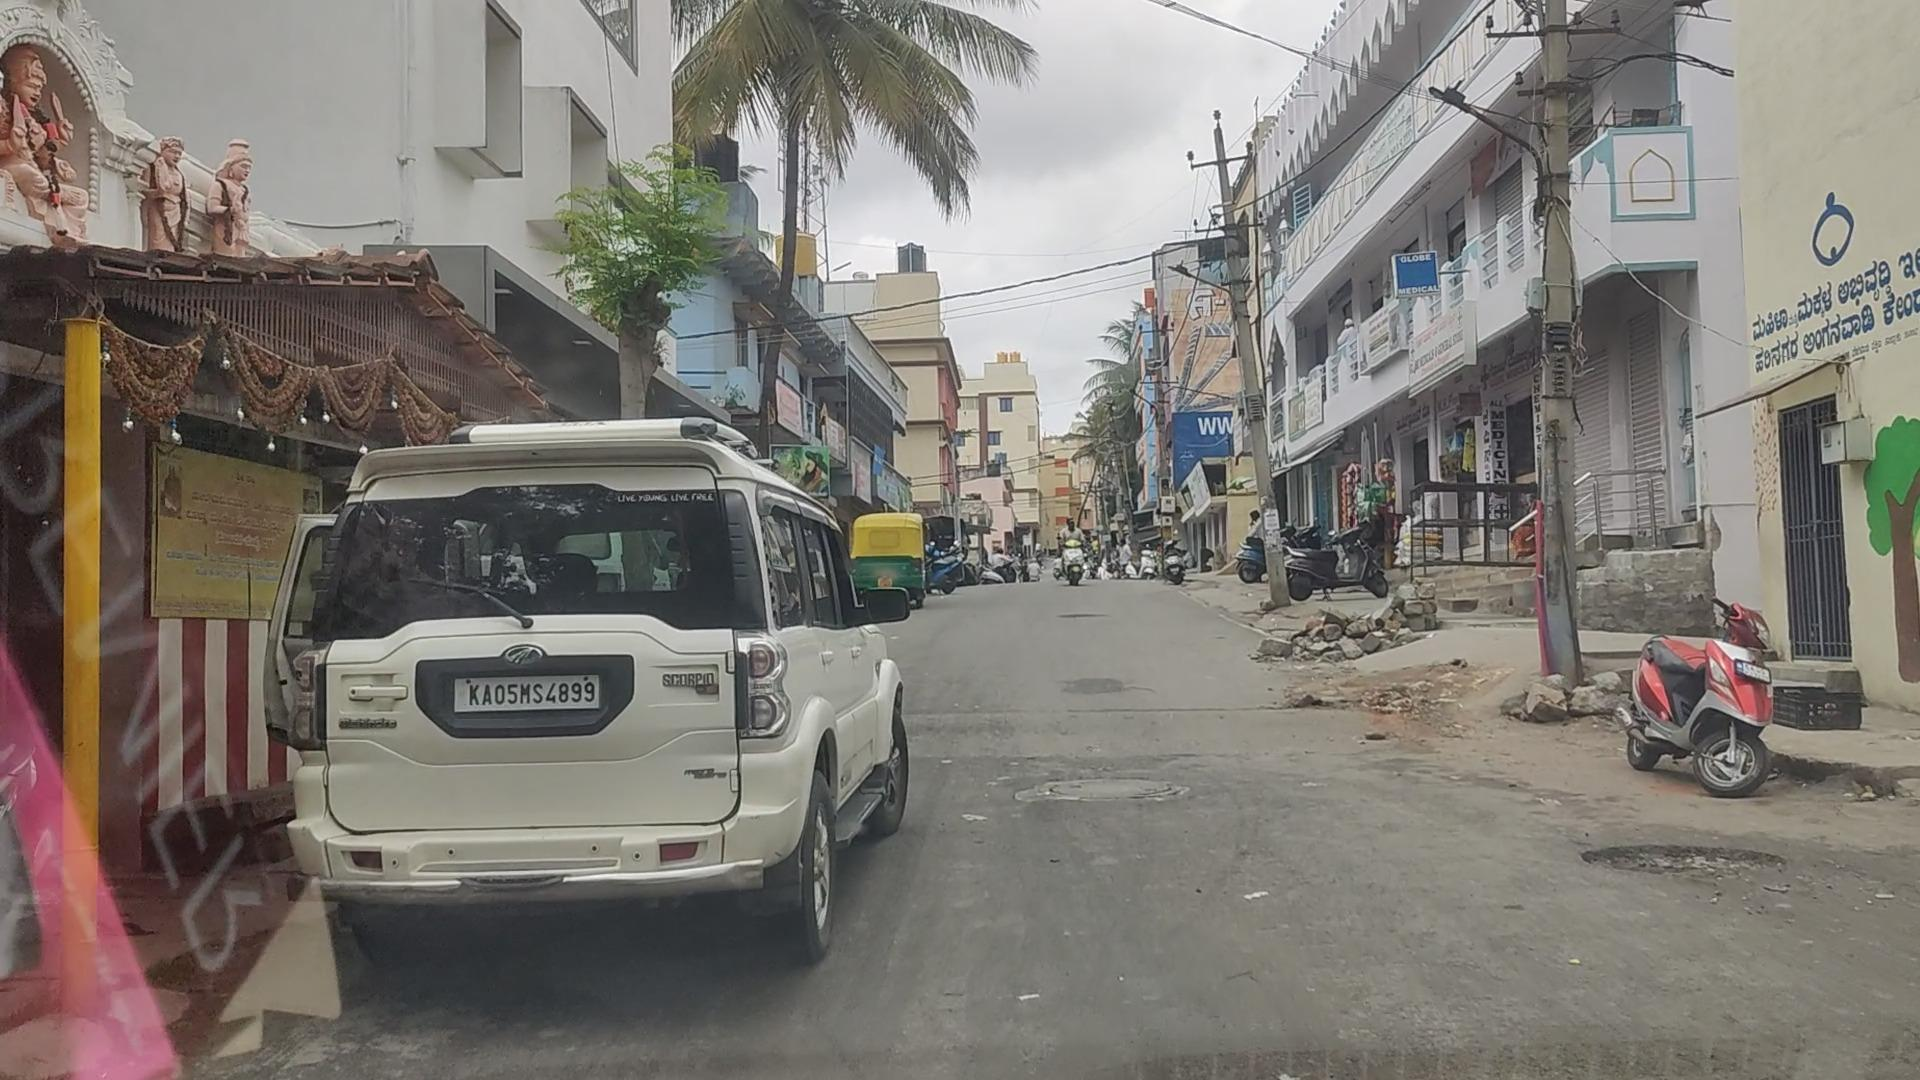RoadDamages: (1556, 833, 1800, 906), (1013, 762, 1209, 818)
